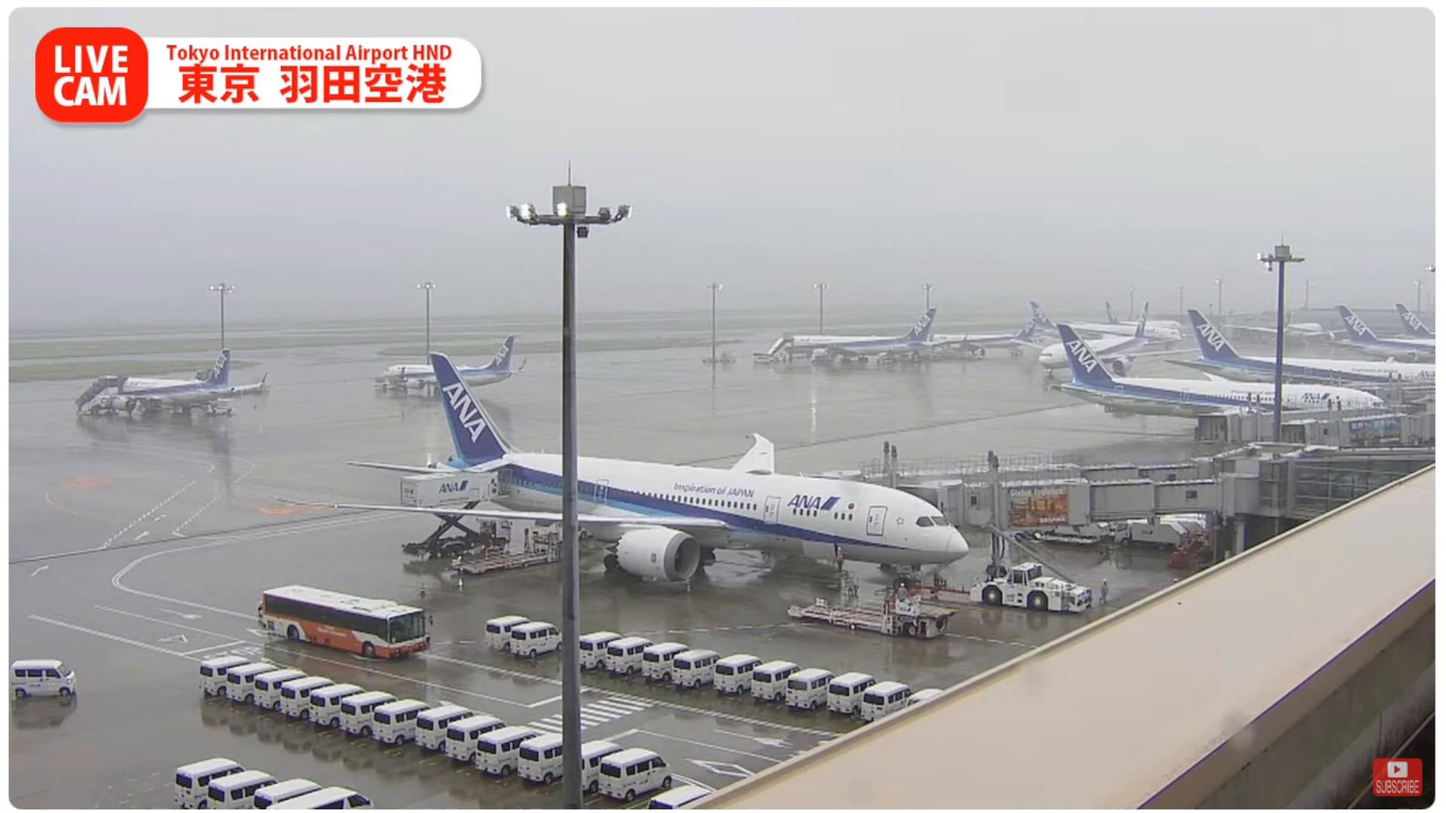APS: (968, 562, 1094, 614)
Aerobridge: (796, 455, 1210, 515), (990, 474, 1182, 535)
Airplane: (270, 351, 970, 592)
Catering: (400, 469, 510, 559)
JCPL: (788, 585, 960, 638), (452, 528, 561, 574)
Window: (1292, 458, 1433, 516)
